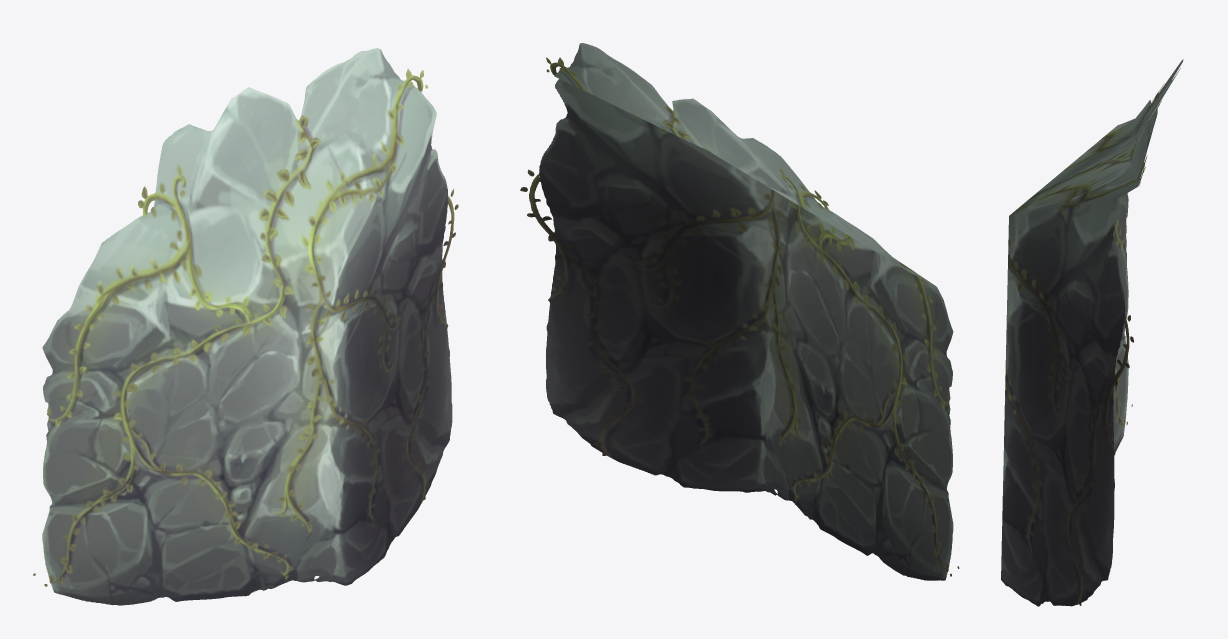
File: Big Stone FW.FBX
3 views of the same model, side by side, from view 1: azimuth 30°, elevation 25°; view 2: azimuth 150°, elevation 25°; view 3: azimuth 270°, elevation 25° (orthographic). The views are drawn at different scales.
Visible parts, largest first — view 1: Big Stone FW; view 2: Big Stone FW; view 3: Big Stone FW.
Part boxes in pixels (box(x1,y1,x2,y2)): Big Stone FW: box(33, 48, 458, 605); Big Stone FW: box(520, 43, 959, 580); Big Stone FW: box(1001, 59, 1183, 606).
Bounding box in the file's own units: 843 × 301 × 903.
